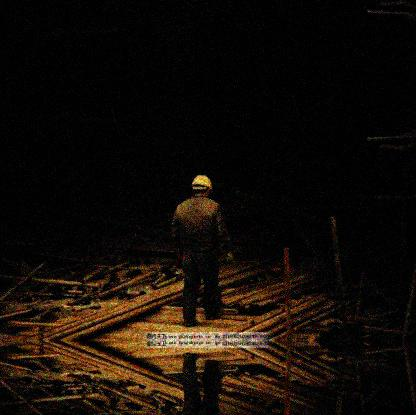helmet: (191, 173, 212, 196)
